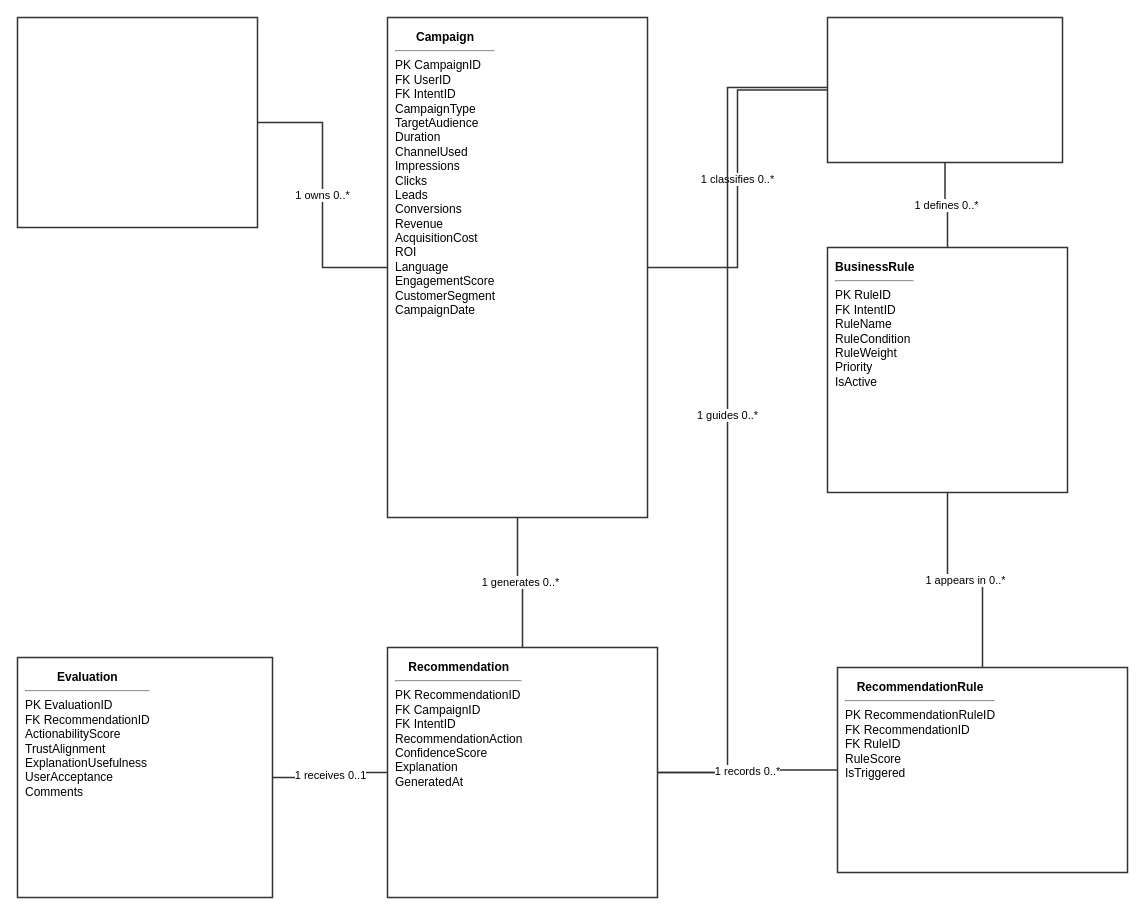
Some shapes in this 1146 by 916 pixel diagram are drawn without their labels. Each missing label, with the box of its shape:
Intent PK IntentID IntentName Description: (826, 16, 1063, 163)
User PK UserID Username Email Password Role CreatedAt: (16, 16, 258, 228)
